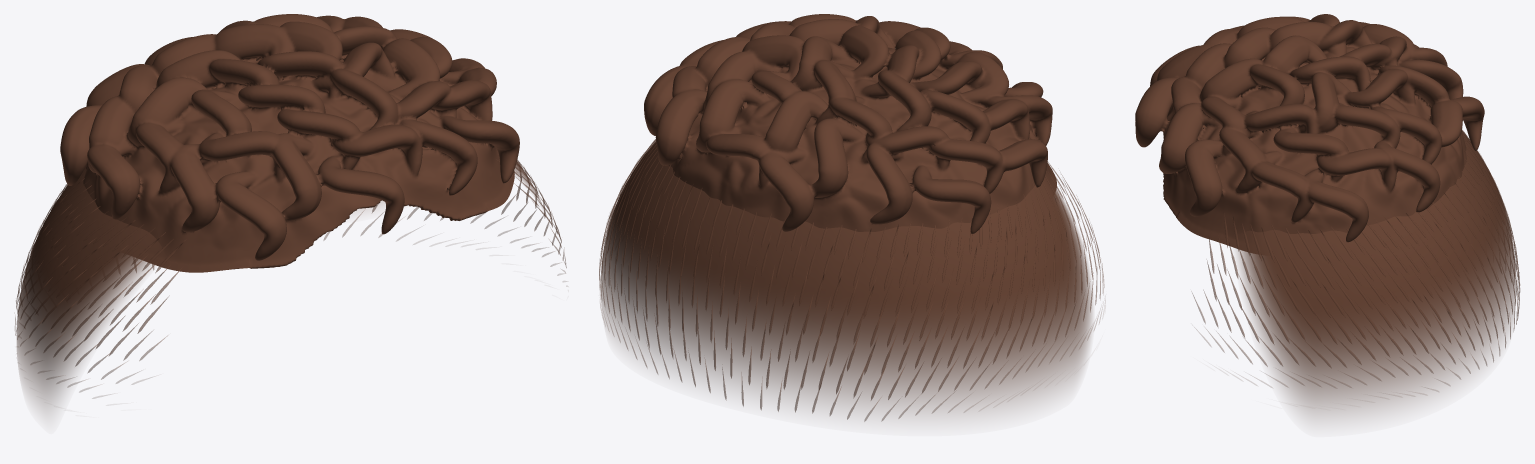
The model's file is Masculine-curly-top-ears259-hair.glb.
The picture shows the model from 3 angles, left to right: view 1: azimuth 30°, elevation 25°; view 2: azimuth 150°, elevation 25°; view 3: azimuth 270°, elevation 25°; orthographic projection. The views are drawn at different scales.
Visible parts, largest first — view 1: 226 hair / Hair252 / sculpted curl groups, 226 hair / Hair258 / smooth side fade, 226 hair / Hair259 / directional fade marks214; view 2: 226 hair / Hair258 / smooth side fade, 226 hair / Hair252 / sculpted curl groups, 226 hair / Hair259 / directional fade marks214; view 3: 226 hair / Hair252 / sculpted curl groups, 226 hair / Hair258 / smooth side fade, 226 hair / Hair259 / directional fade marks214.
Boxes of the visible parts, <box> form: 226 hair / Hair252 / sculpted curl groups: <box>60,14,519,272</box>; 226 hair / Hair258 / smooth side fade: <box>16,161,545,411</box>; 226 hair / Hair259 / directional fade marks214: <box>15,154,567,398</box>; 226 hair / Hair258 / smooth side fade: <box>601,141,1092,415</box>; 226 hair / Hair252 / sculpted curl groups: <box>644,14,1056,233</box>; 226 hair / Hair259 / directional fade marks214: <box>599,139,1105,421</box>; 226 hair / Hair252 / sculpted curl groups: <box>1135,14,1484,253</box>; 226 hair / Hair258 / smooth side fade: <box>1235,131,1516,418</box>; 226 hair / Hair259 / directional fade marks214: <box>1192,129,1520,394</box>.
Size of the model in its own units: 0.9743 by 0.665 by 0.7572.
